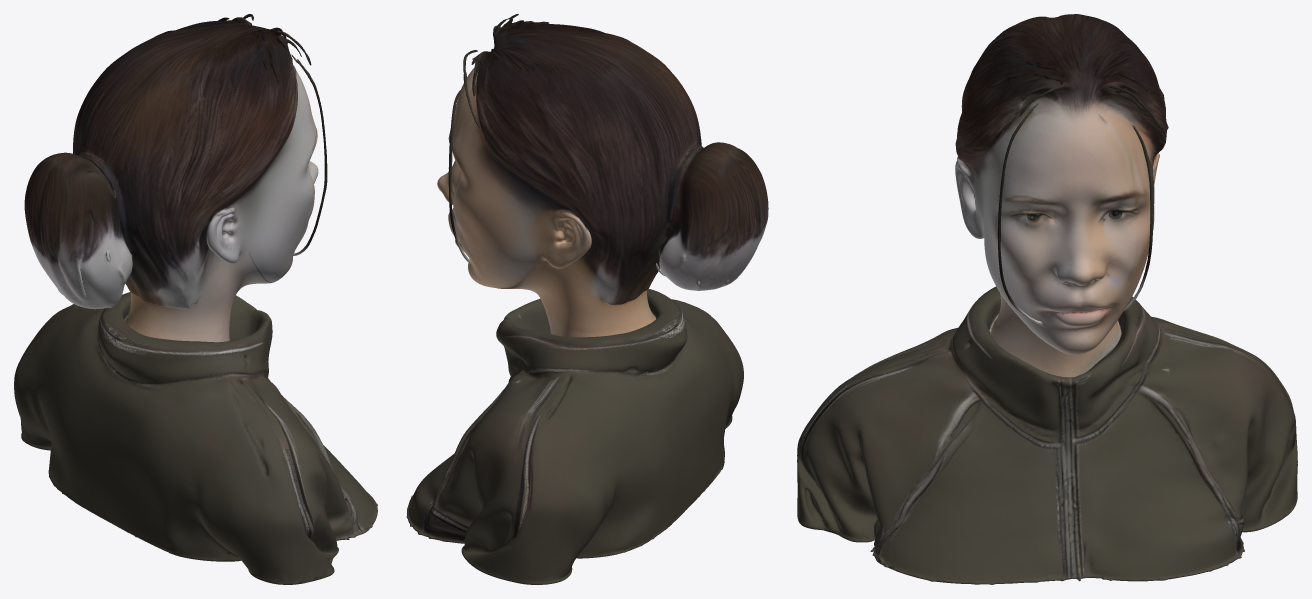
Rendered from tripo_pbr_model_7d8aa5b9-25aa-_dc0536c9_opt.glb.
The picture shows the model from 3 angles, left to right: view 1: azimuth 30°, elevation 25°; view 2: azimuth 150°, elevation 25°; view 3: azimuth 270°, elevation 25°; orthographic projection. The views are drawn at different scales.
Parts seen in each view (by area): view 1: tripo_node_7d8aa5b9-25aa-4c62-9e2c-6971bd8fdc33; view 2: tripo_node_7d8aa5b9-25aa-4c62-9e2c-6971bd8fdc33; view 3: tripo_node_7d8aa5b9-25aa-4c62-9e2c-6971bd8fdc33.
Part boxes in pixels (box(x1,y1,x2,y2)): tripo_node_7d8aa5b9-25aa-4c62-9e2c-6971bd8fdc33: box(14, 14, 377, 584); tripo_node_7d8aa5b9-25aa-4c62-9e2c-6971bd8fdc33: box(406, 14, 768, 584); tripo_node_7d8aa5b9-25aa-4c62-9e2c-6971bd8fdc33: box(797, 14, 1297, 584).
Size of the model in its own units: 0.6938 by 1 by 0.927.
1 material, 1 textured.
